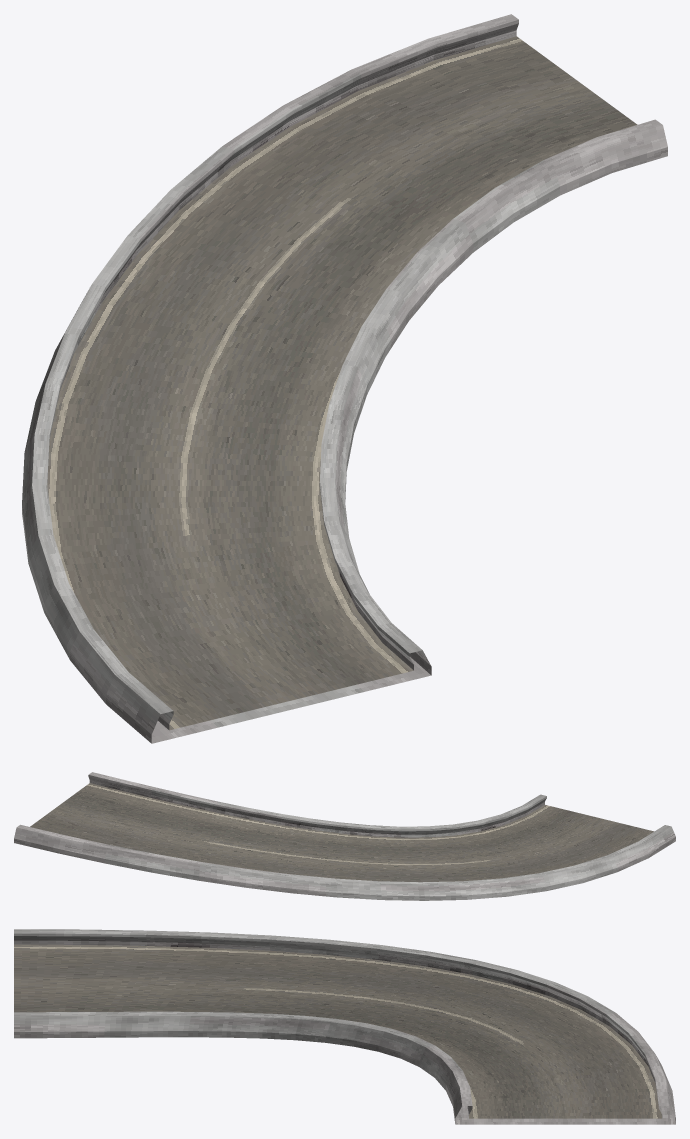
The model's file is turn-right3x3.glb.
3 renders of one model, top to bottom at view 1: azimuth 30°, elevation 25°; view 2: azimuth 150°, elevation 25°; view 3: azimuth 270°, elevation 25°, orthographic. The views are drawn at different scales.
Visible parts, largest first — view 1: road-Turn-Flat-Flat-Up2-Right-Size3; view 2: road-Turn-Flat-Flat-Up2-Right-Size3; view 3: road-Turn-Flat-Flat-Up2-Right-Size3.
Part boxes in pixels (x1,y1,x2,y2): road-Turn-Flat-Flat-Up2-Right-Size3: (22,14,667,743); road-Turn-Flat-Flat-Up2-Right-Size3: (14,772,675,900); road-Turn-Flat-Flat-Up2-Right-Size3: (14,929,675,1124).
Bounding box in the file's own units: 3 × 0.5938 × 3.
Materials: 2 (2 with a texture image).
